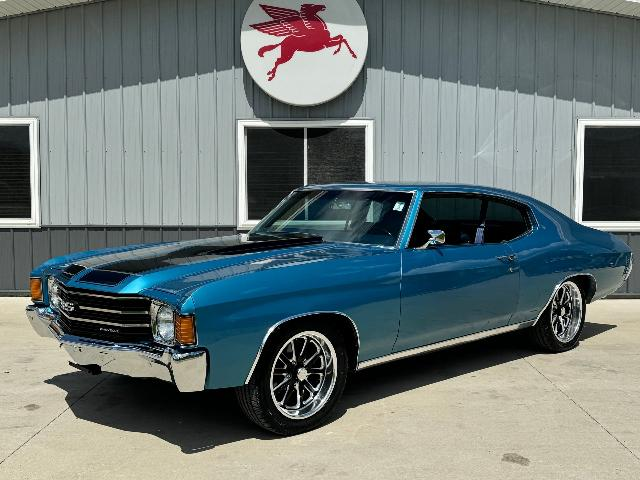chevelle-1972: (25, 183, 634, 435)
